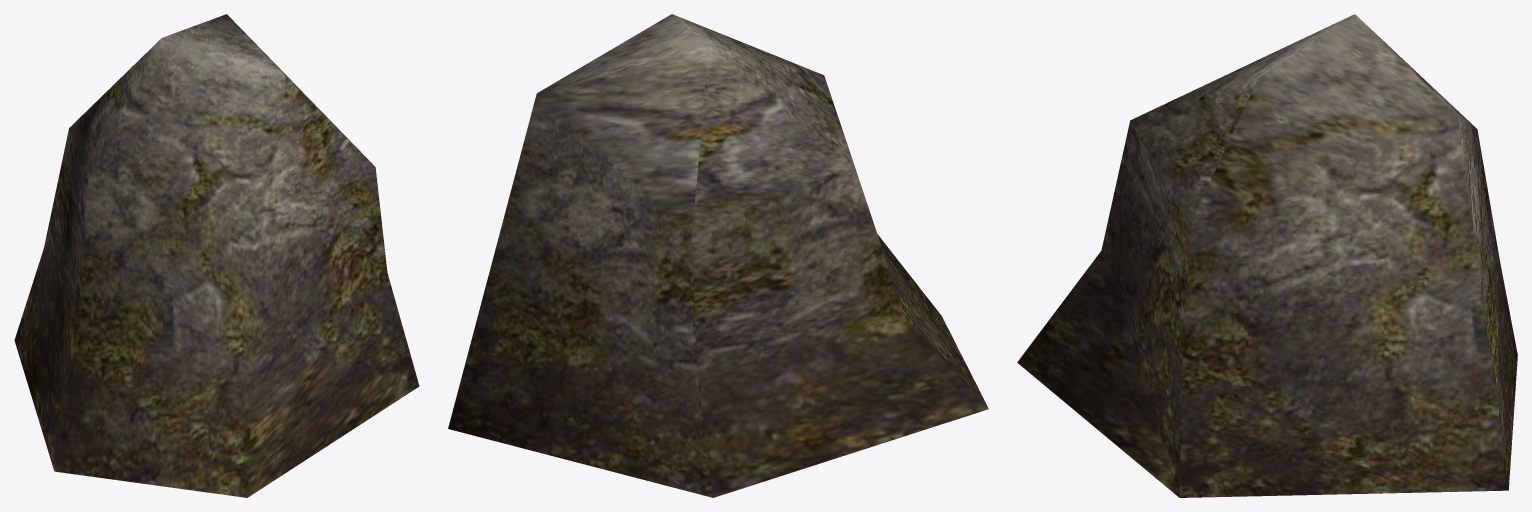
The model's file is hazz_shitou_03.FBX.
The picture shows the model from 3 angles, left to right: view 1: azimuth 30°, elevation 25°; view 2: azimuth 150°, elevation 25°; view 3: azimuth 270°, elevation 25°; orthographic projection. The views are drawn at different scales.
Visible parts, largest first — view 1: hazz_shitou_03; view 2: hazz_shitou_03; view 3: hazz_shitou_03.
Boxes of the visible parts, x1=… form: hazz_shitou_03: x1=14, y1=14, x2=419, y2=497; hazz_shitou_03: x1=448, y1=14, x2=988, y2=497; hazz_shitou_03: x1=1017, y1=14, x2=1517, y2=497.
Size of the model in its own units: 104 by 92.83 by 110.
